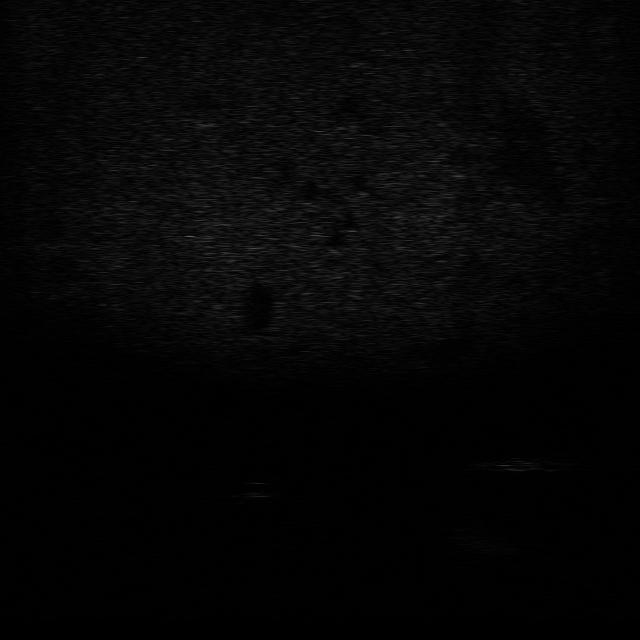ball: (222, 474, 278, 501)
circle cage: (424, 513, 521, 560)
human body: (472, 450, 580, 476)
